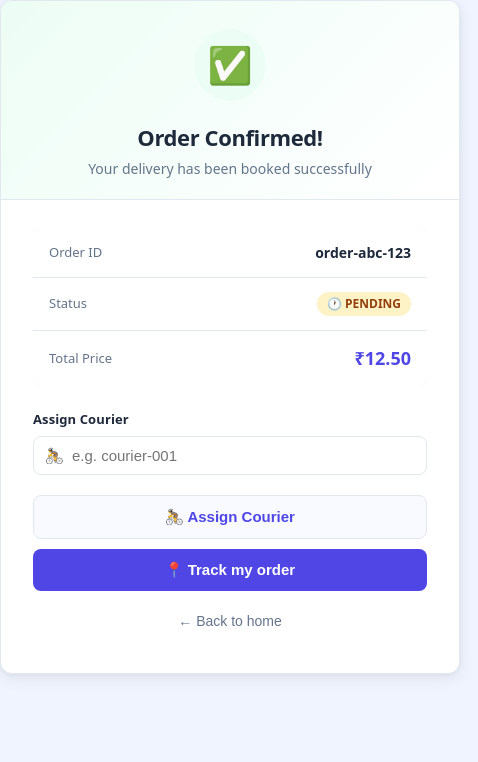
Test: OrderConfirmation › shows error when assign courier fails
Type "courier-bad" into the field named "Courier ID" at (230, 455), box [33,436,427,474]
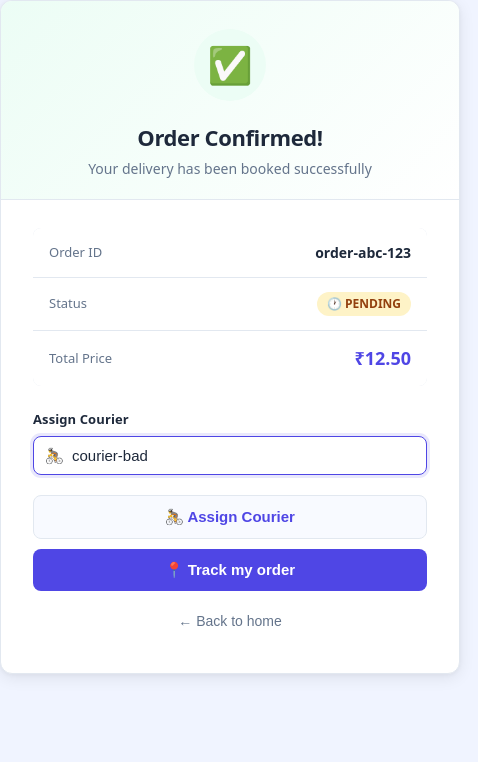
Click the button "🚴 Assign Courier" at (230, 516), box [33,494,427,538]
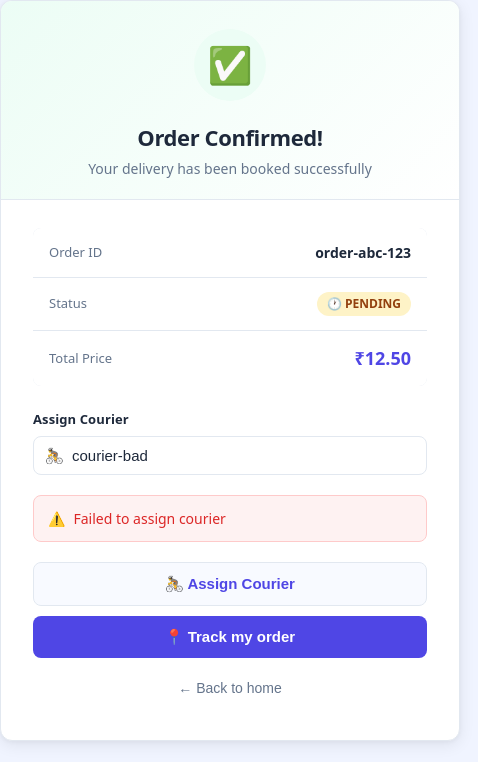
Now the message reads "Failed to assign courier", box [74,508,226,528]
